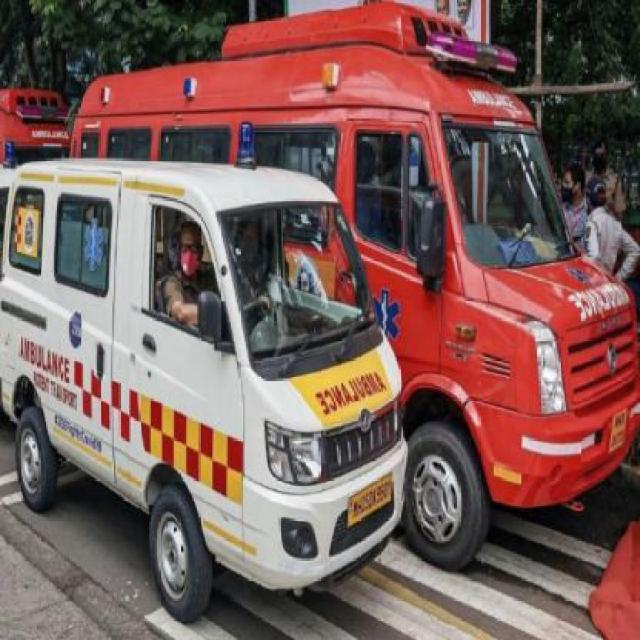Ambulance: (75, 39, 590, 561), (7, 150, 385, 623), (4, 82, 75, 172)
